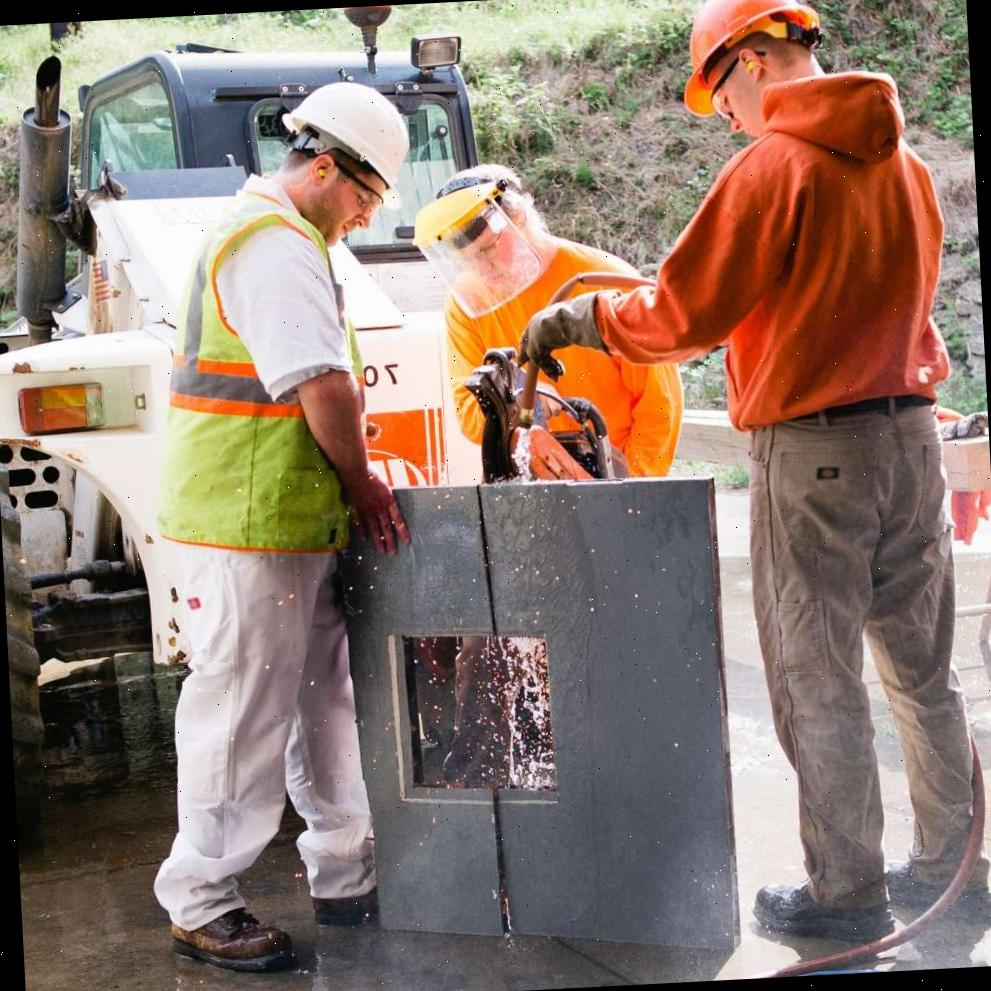helmet: (670, 0, 830, 130), (273, 71, 415, 198)
no_wear: (706, 132, 950, 422), (0, 22, 56, 128)
wear: (156, 223, 356, 546)
